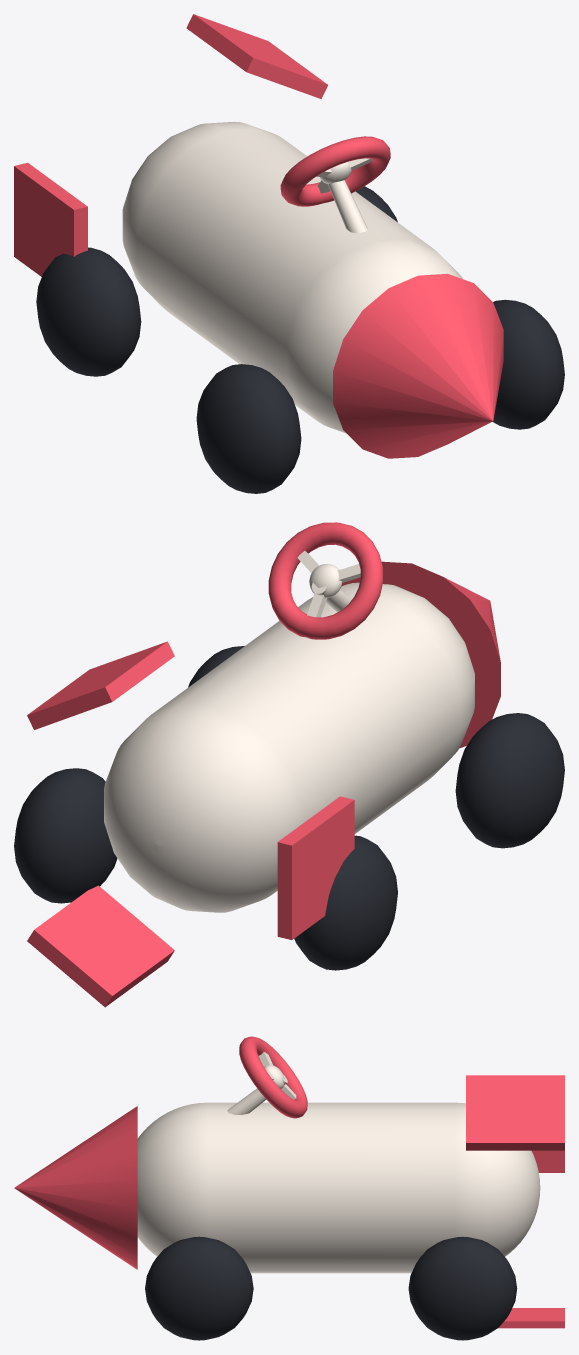
The model's file is kart-rocket.glb.
3 renders of one model, top to bottom at view 1: azimuth 30°, elevation 25°; view 2: azimuth 150°, elevation 25°; view 3: azimuth 270°, elevation 25°, orthographic. The views are drawn at different scales.
Parts seen in each view (by area): view 1: kart-rocket; view 2: kart-rocket; view 3: kart-rocket.
Boxes of the visible parts, <box> form: kart-rocket: <box>14,14,564,493</box>; kart-rocket: <box>14,522,564,1007</box>; kart-rocket: <box>14,1036,564,1340</box>.
Bounding box in the file's own units: 2 × 1.82 × 3.35.
